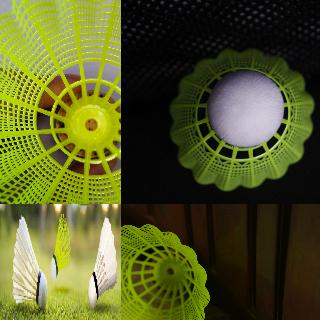shuttlecock: (0, 0, 120, 203), (168, 49, 314, 193), (121, 224, 209, 319), (50, 213, 70, 280)
